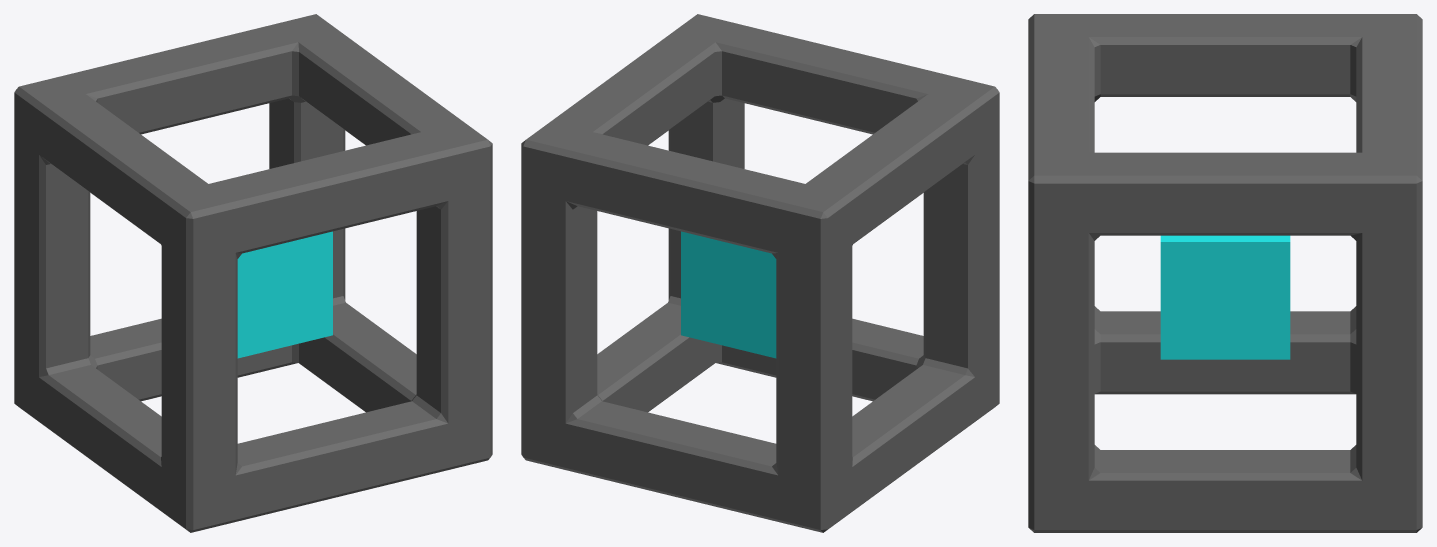
The model's file is core.glb.
3 renders of one model, left to right at view 1: azimuth 30°, elevation 25°; view 2: azimuth 150°, elevation 25°; view 3: azimuth 270°, elevation 25°, orthographic. The views are drawn at different scales.
Visible parts, largest first — view 1: Outer, Inner; view 2: Outer, Inner; view 3: Outer, Inner.
Boxes of the visible parts, left/top/right/bottom form: Outer: left=14, top=14, right=492, bottom=532; Inner: left=237, top=231, right=332, bottom=358; Outer: left=521, top=14, right=999, bottom=532; Inner: left=681, top=231, right=776, bottom=358; Outer: left=1028, top=14, right=1422, bottom=532; Inner: left=1160, top=235, right=1290, bottom=359.
Size of the model in its own units: 3.01 by 3.01 by 3.01.
